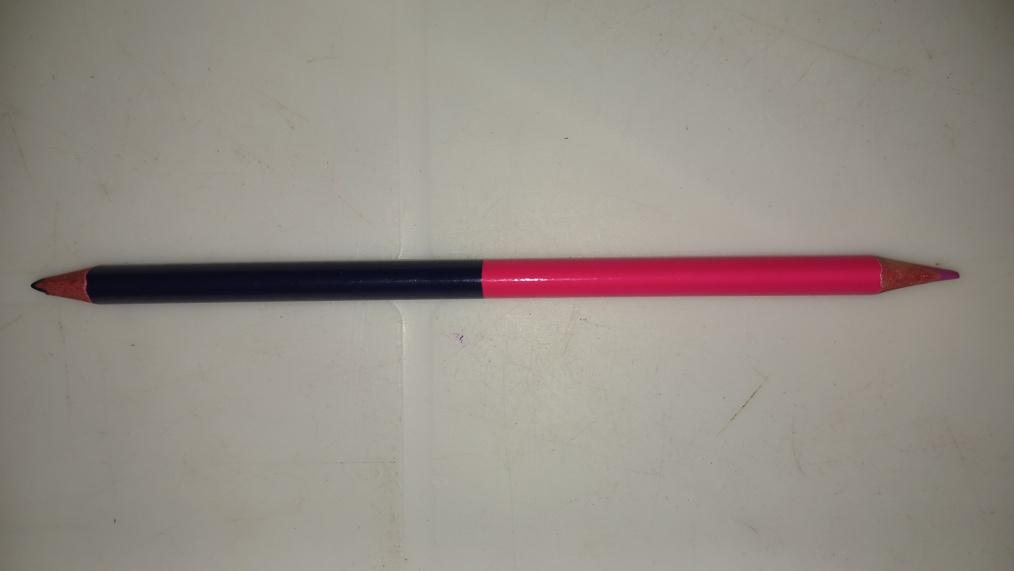Pencil: (31, 254, 957, 308)
